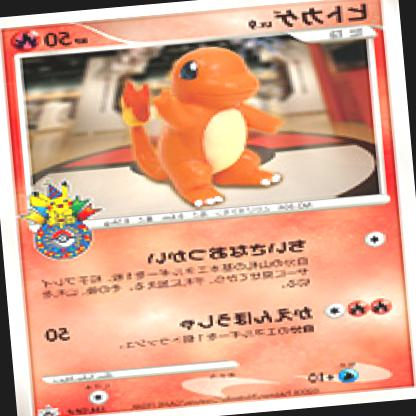Charmander: (113, 37, 291, 216)
